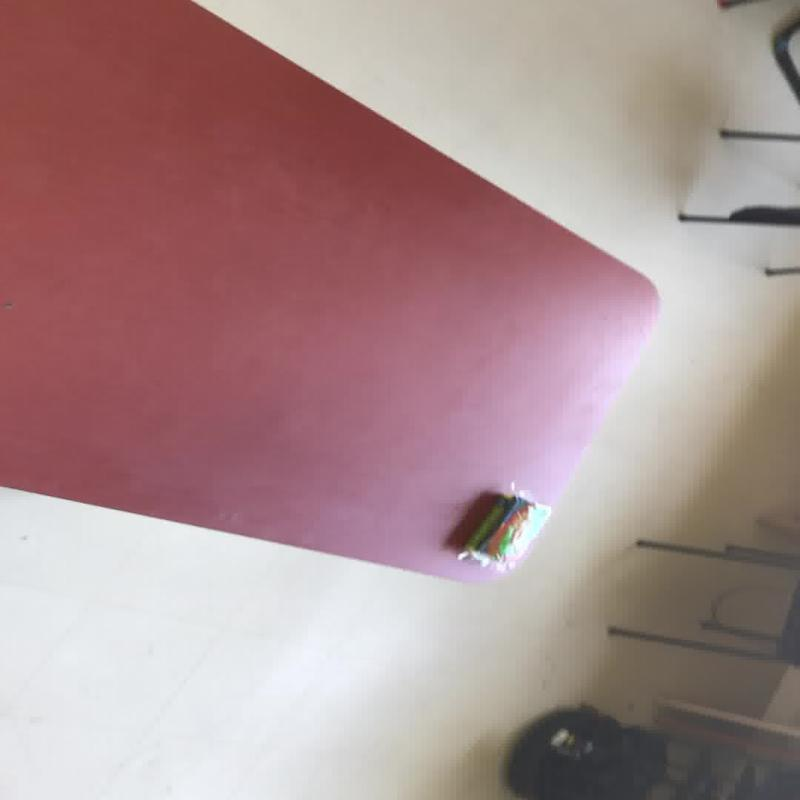sponge: (454, 488, 550, 572)
